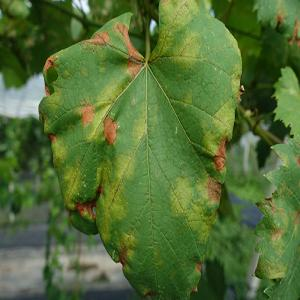Folha: (37, 0, 242, 298), (255, 64, 300, 300), (252, 0, 300, 45)
Fungo: (145, 0, 208, 60), (79, 78, 130, 140), (94, 160, 130, 233), (113, 14, 145, 87), (205, 87, 233, 144), (188, 190, 216, 244), (128, 95, 152, 153), (112, 228, 140, 272), (176, 27, 203, 71), (170, 173, 194, 220), (65, 157, 84, 216), (73, 184, 103, 221), (197, 172, 223, 205), (84, 27, 115, 53), (262, 258, 290, 283), (227, 58, 242, 102), (116, 151, 138, 181), (212, 135, 228, 173), (222, 30, 243, 56), (52, 133, 68, 166), (102, 116, 118, 146), (74, 199, 96, 220), (44, 54, 59, 77), (81, 103, 95, 126), (289, 207, 300, 235), (181, 83, 190, 115), (46, 126, 58, 147), (268, 223, 285, 235), (87, 198, 96, 220), (292, 152, 300, 173), (238, 84, 245, 104)
